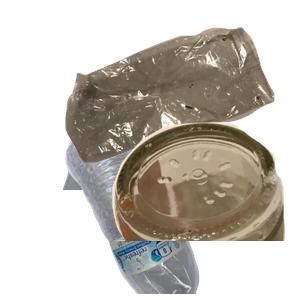glass: (89, 120, 300, 300)
metal: (60, 82, 300, 262)
plastic: (63, 120, 263, 300)
trash: (63, 24, 300, 179)
